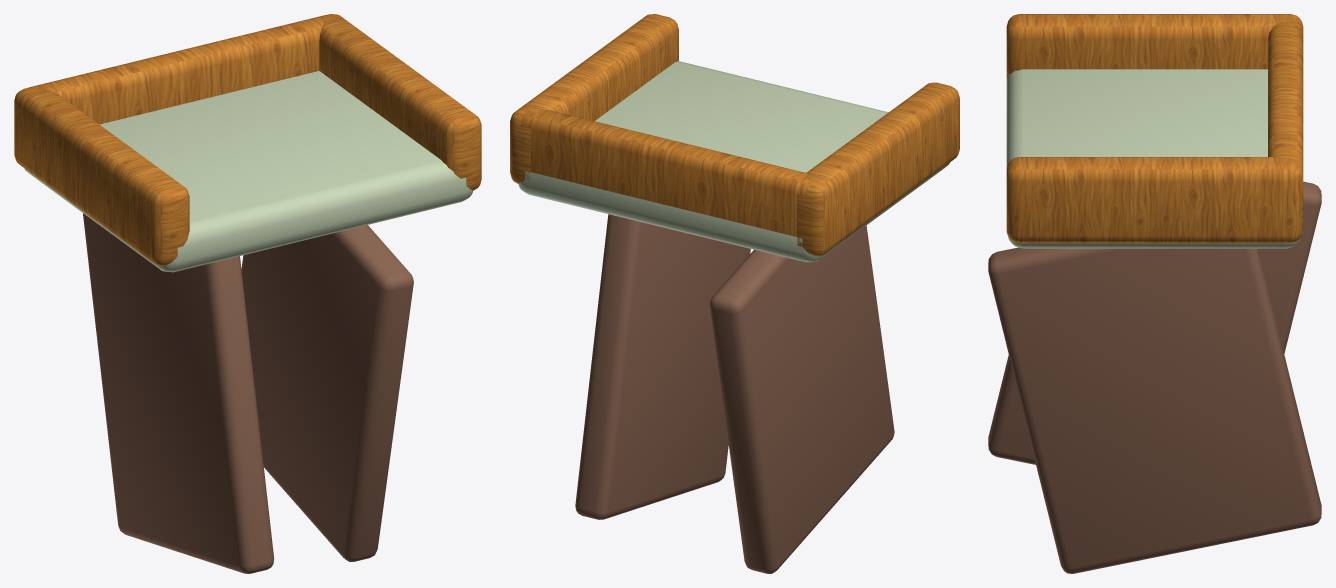
The model's file is tray-side-table.glb.
3 views of the same model, side by side, from view 1: azimuth 30°, elevation 25°; view 2: azimuth 150°, elevation 25°; view 3: azimuth 270°, elevation 25° (orthographic). The views are drawn at different scales.
Parts seen in each view (by area): view 1: tray-side-table; view 2: tray-side-table; view 3: tray-side-table.
Boxes of the visible parts, left/top/right/bottom form: tray-side-table: left=14, top=14, right=481, bottom=573; tray-side-table: left=510, top=14, right=959, bottom=573; tray-side-table: left=988, top=14, right=1321, bottom=573.
Size of the model in its own units: 0.5384 by 0.6947 by 0.4715.
3 materials, 1 textured.
